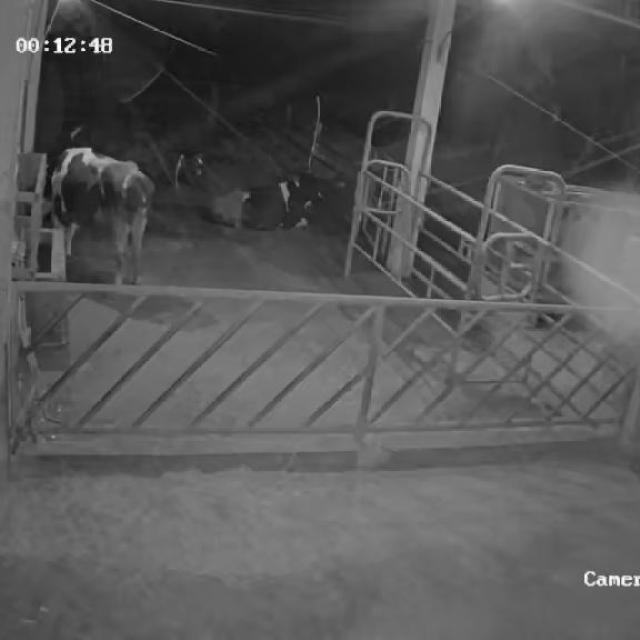lying down: (204, 170, 346, 232)
standing: (48, 150, 158, 289)
